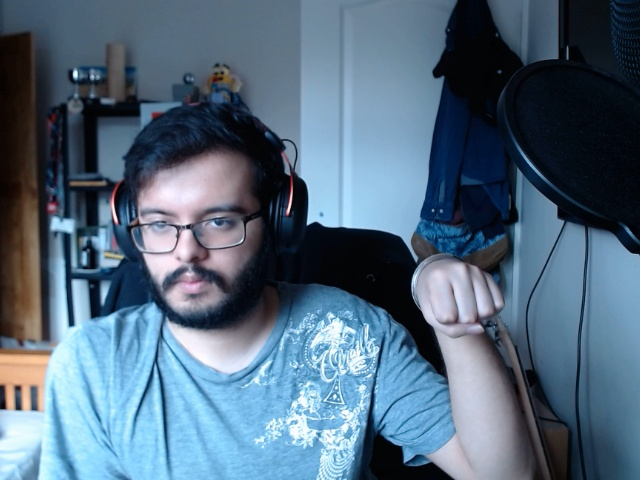Yes: (411, 240, 512, 353)
